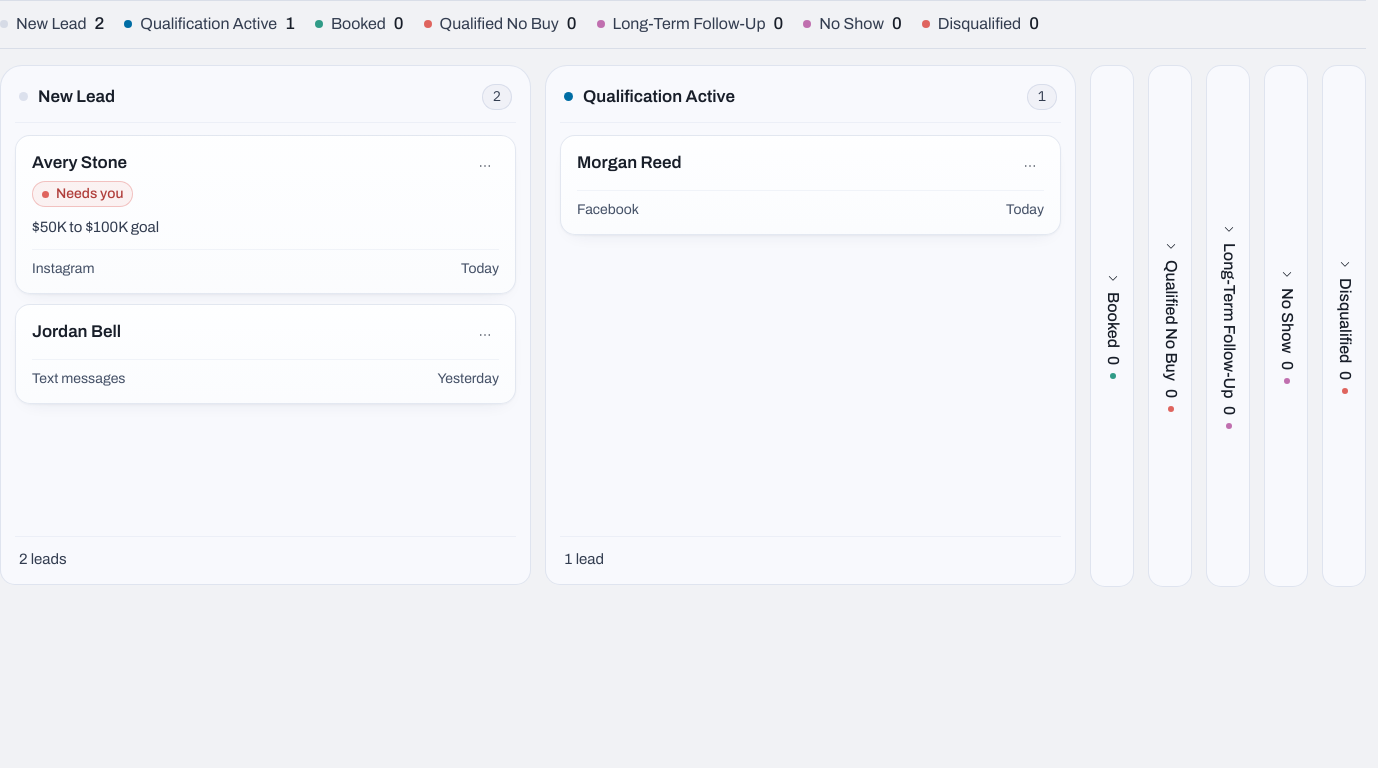
Test: KanbanBoard › cancels an active pointer drag with Escape
Press the mouse on the element named "Open Avery Stone" at (266, 214), box left=15, top=135, right=516, bottom=294
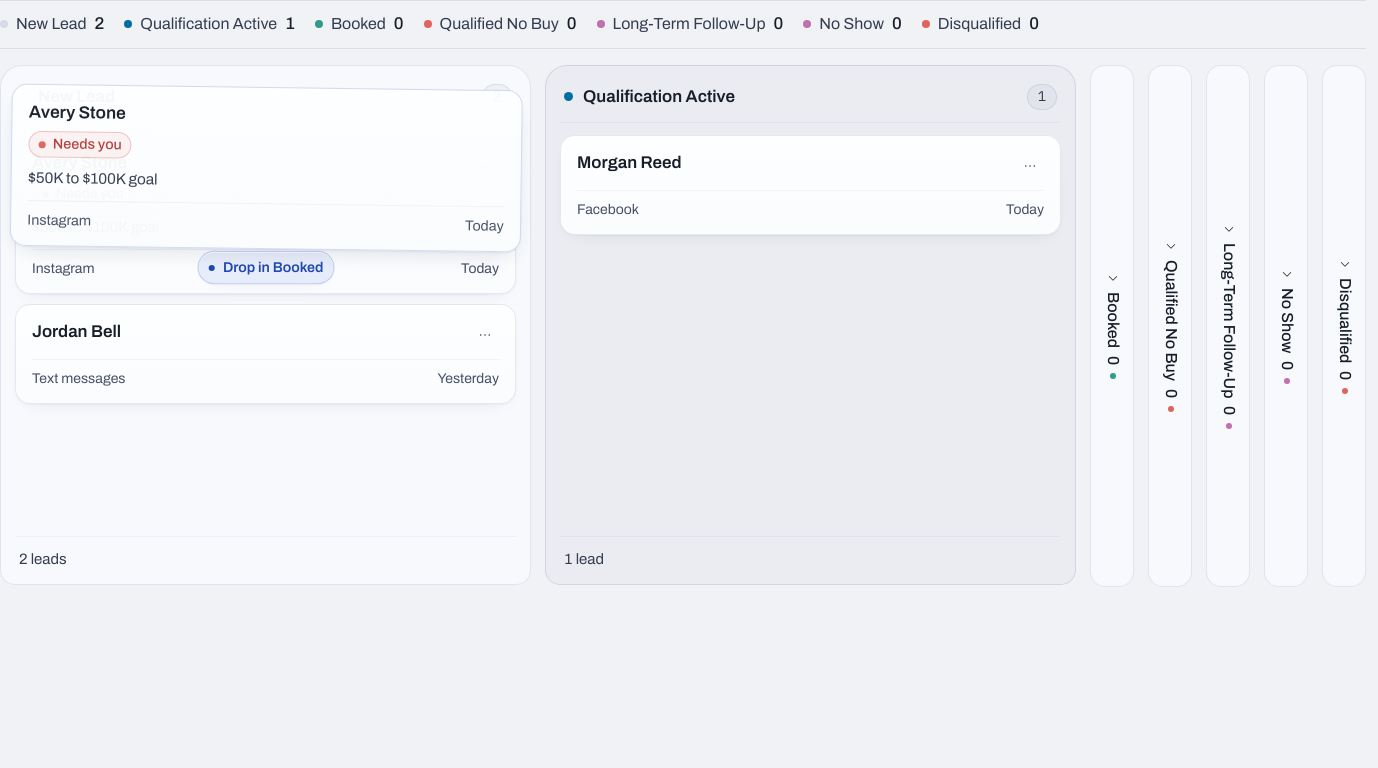
Press Escape
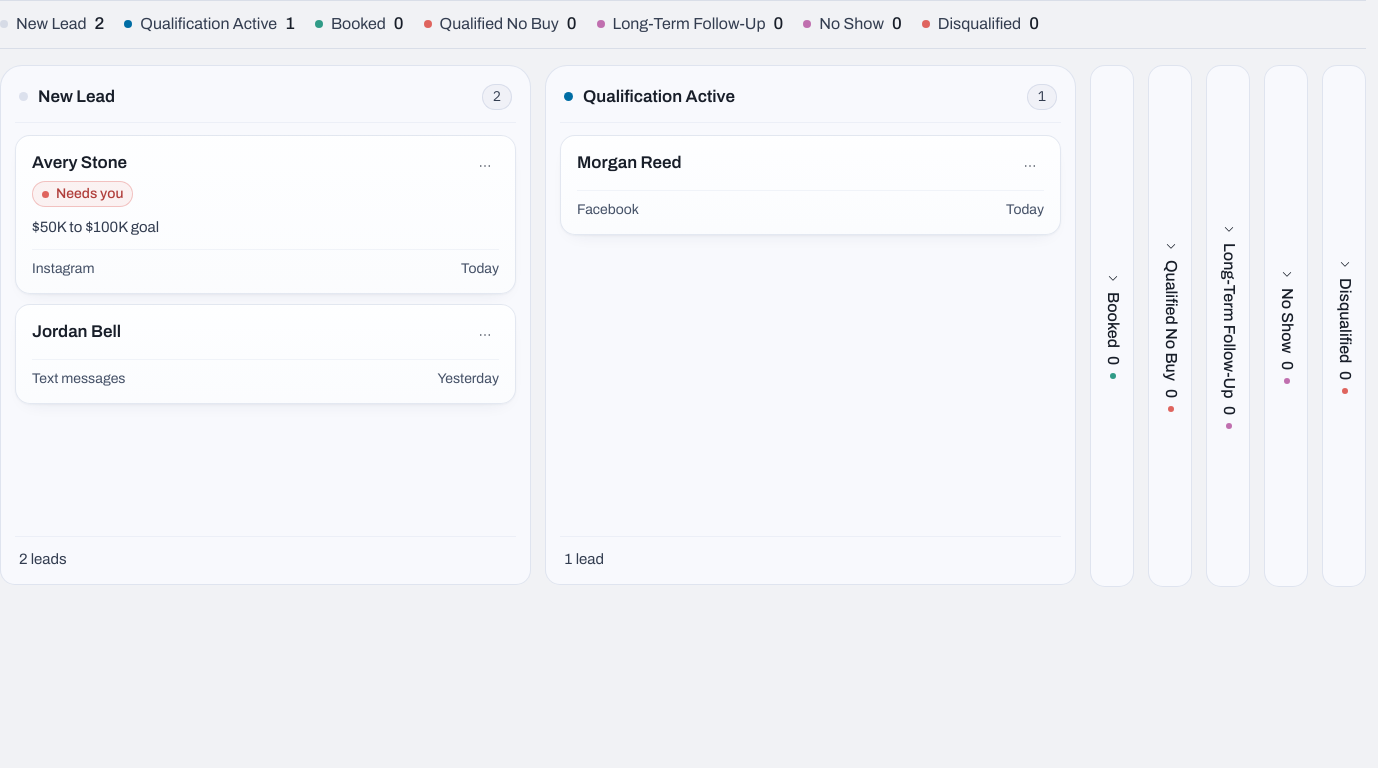
expect the element with class "kanban-drag-preview" is gone: met
